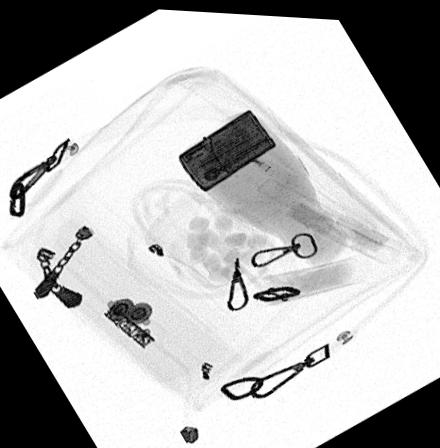Lighter: (177, 105, 275, 189)
